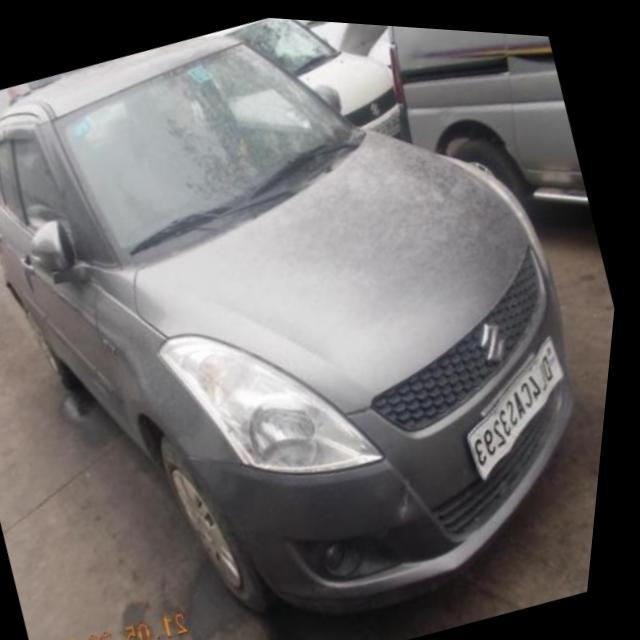crack: (403, 467, 422, 519)
